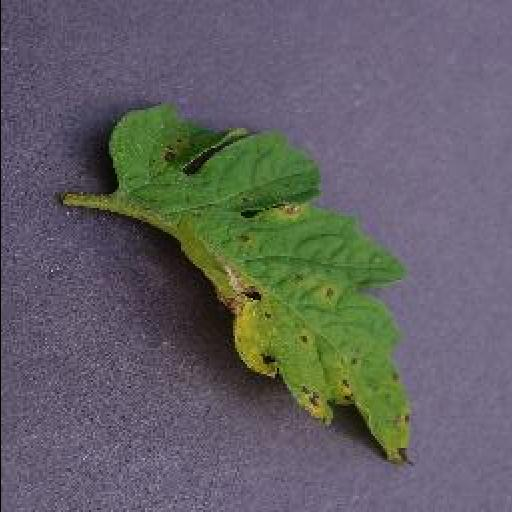disease_tomato: (108, 103, 416, 463)
